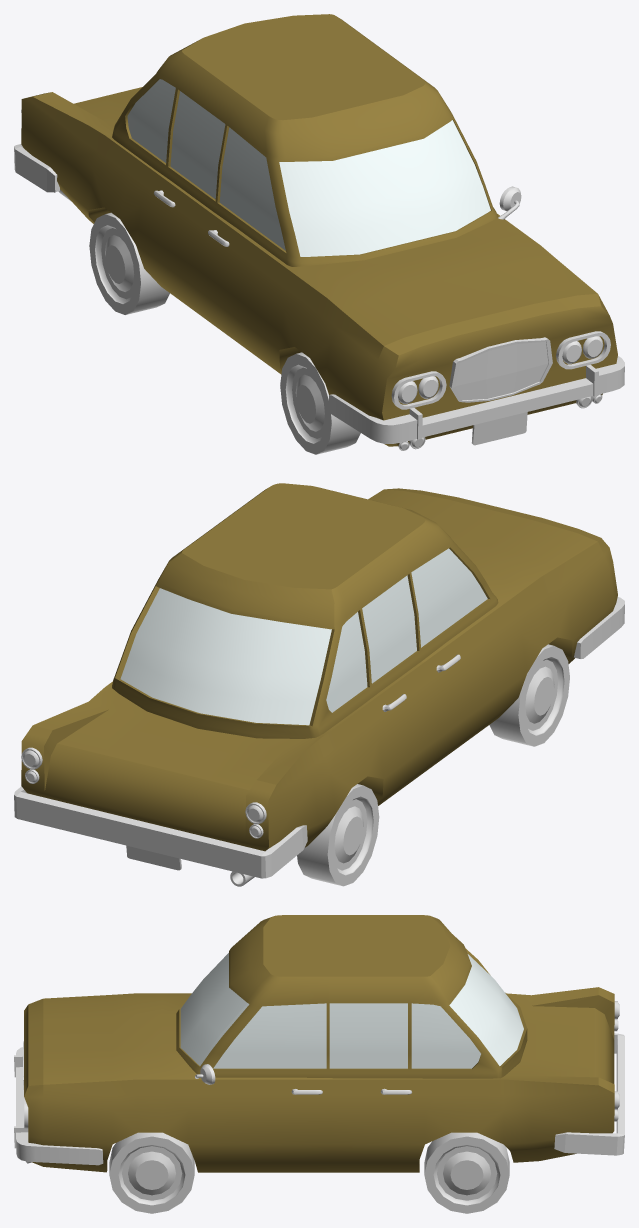
File: Car.fbx
The picture shows the model from 3 angles, top to bottom: view 1: azimuth 30°, elevation 25°; view 2: azimuth 150°, elevation 25°; view 3: azimuth 270°, elevation 25°; orthographic projection. The views are drawn at different scales.
Parts seen in each view (by area): view 1: Cabin_Exterior, Glass, Bumper_Rear, Wheels_Front, Lights_Front_Turn; view 2: Cabin_Exterior, Glass, Bumper_Rear, Wheels_Front, Lights_Front_Turn, Plate_Rear; view 3: Cabin_Exterior, Glass, Wheels_Front, Bumper_Rear, Lights_Front_Turn.
Part boxes in pixels (x1=…): Cabin_Exterior: x1=21, y1=14, x2=617, y2=446; Glass: x1=127, y1=79, x2=490, y2=256; Bumper_Rear: x1=14, y1=144, x2=624, y2=445; Wheels_Front: x1=89, y1=212, x2=360, y2=454; Lights_Front_Turn: x1=21, y1=110, x2=610, y2=450; Cabin_Exterior: x1=21, y1=483, x2=617, y2=851; Glass: x1=120, y1=548, x2=487, y2=725; Bumper_Rear: x1=14, y1=597, x2=624, y2=886; Wheels_Front: x1=297, y1=644, x2=569, y2=886; Lights_Front_Turn: x1=21, y1=747, x2=266, y2=838; Plate_Rear: x1=126, y1=845, x2=181, y2=870; Cabin_Exterior: x1=24, y1=915, x2=614, y2=1172; Glass: x1=180, y1=953, x2=523, y2=1068; Wheels_Front: x1=109, y1=1132, x2=509, y2=1213; Bumper_Rear: x1=14, y1=1033, x2=624, y2=1165; Lights_Front_Turn: x1=24, y1=1001, x2=619, y2=1163.
Bounding box in the file's own units: 209 × 204 × 514.
